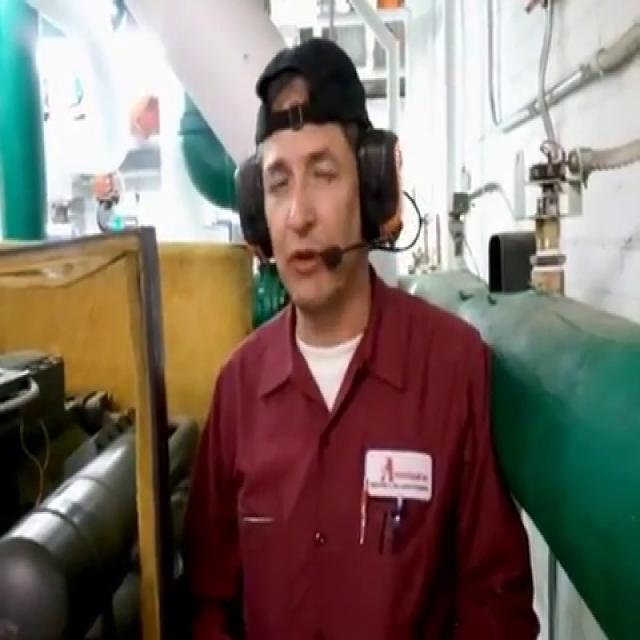earmuff: (355, 124, 412, 256), (229, 148, 278, 266)
